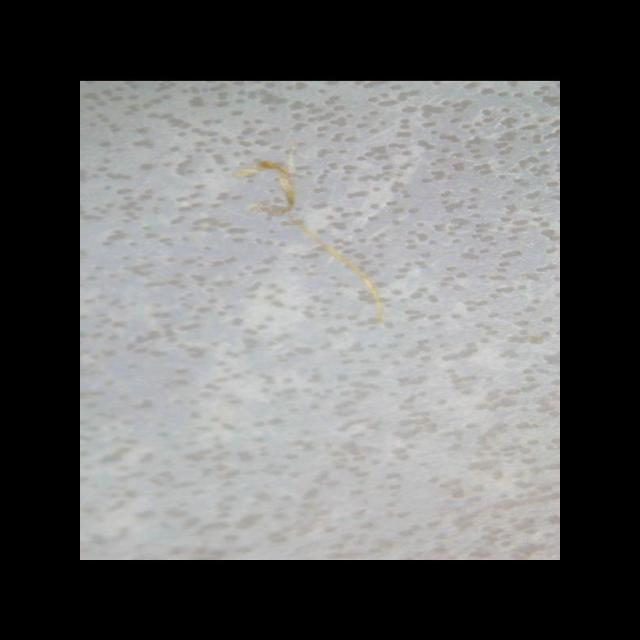Fibre: (222, 154, 316, 223)
